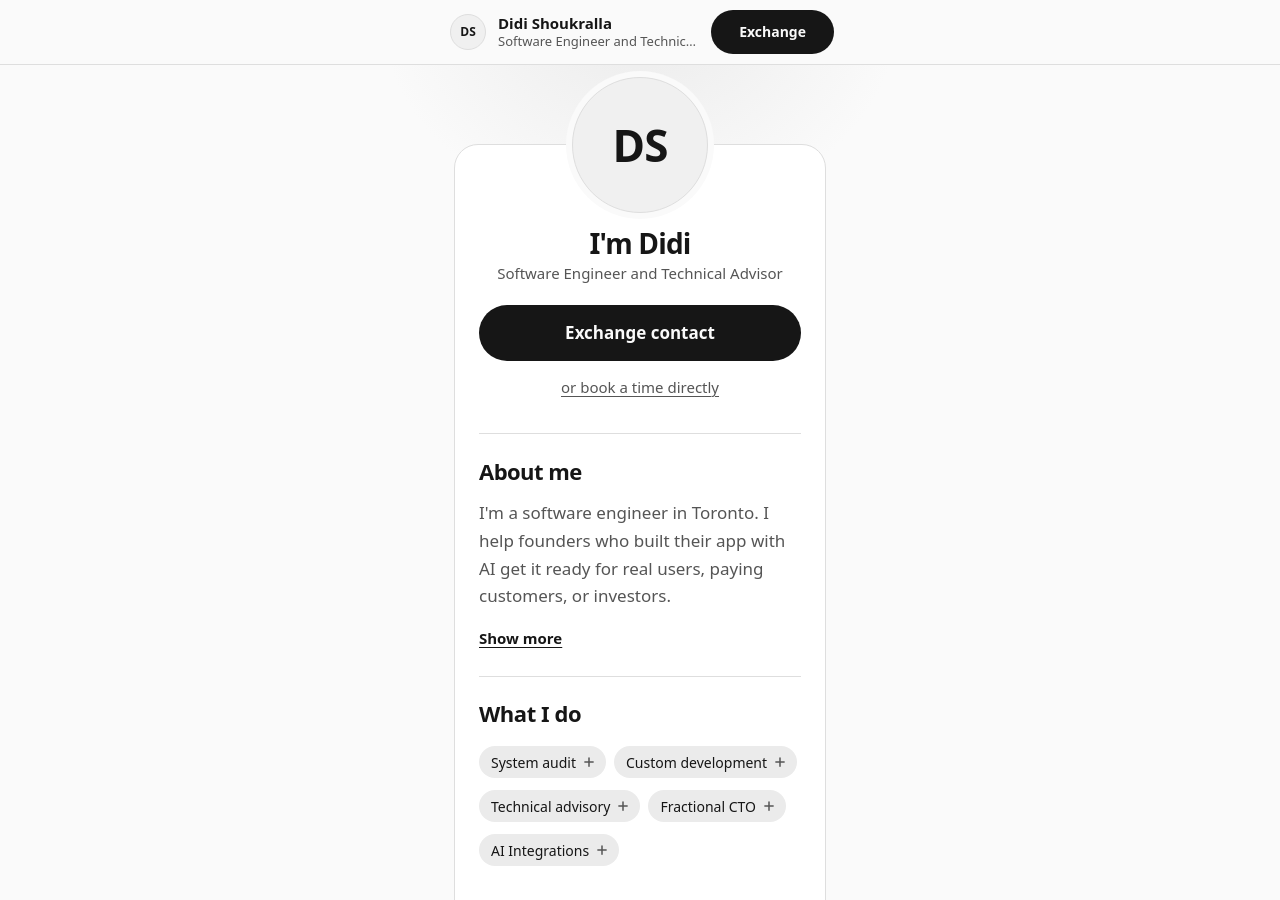
Scenario: HiPageClient (component) › restores focus to the sticky exchange opener without scrolling when the sheet closes
The width and height of the screenshot is (1280, 900).
Click the button "Exchange".
click(773, 32)  # box left=711, top=10, right=834, bottom=54
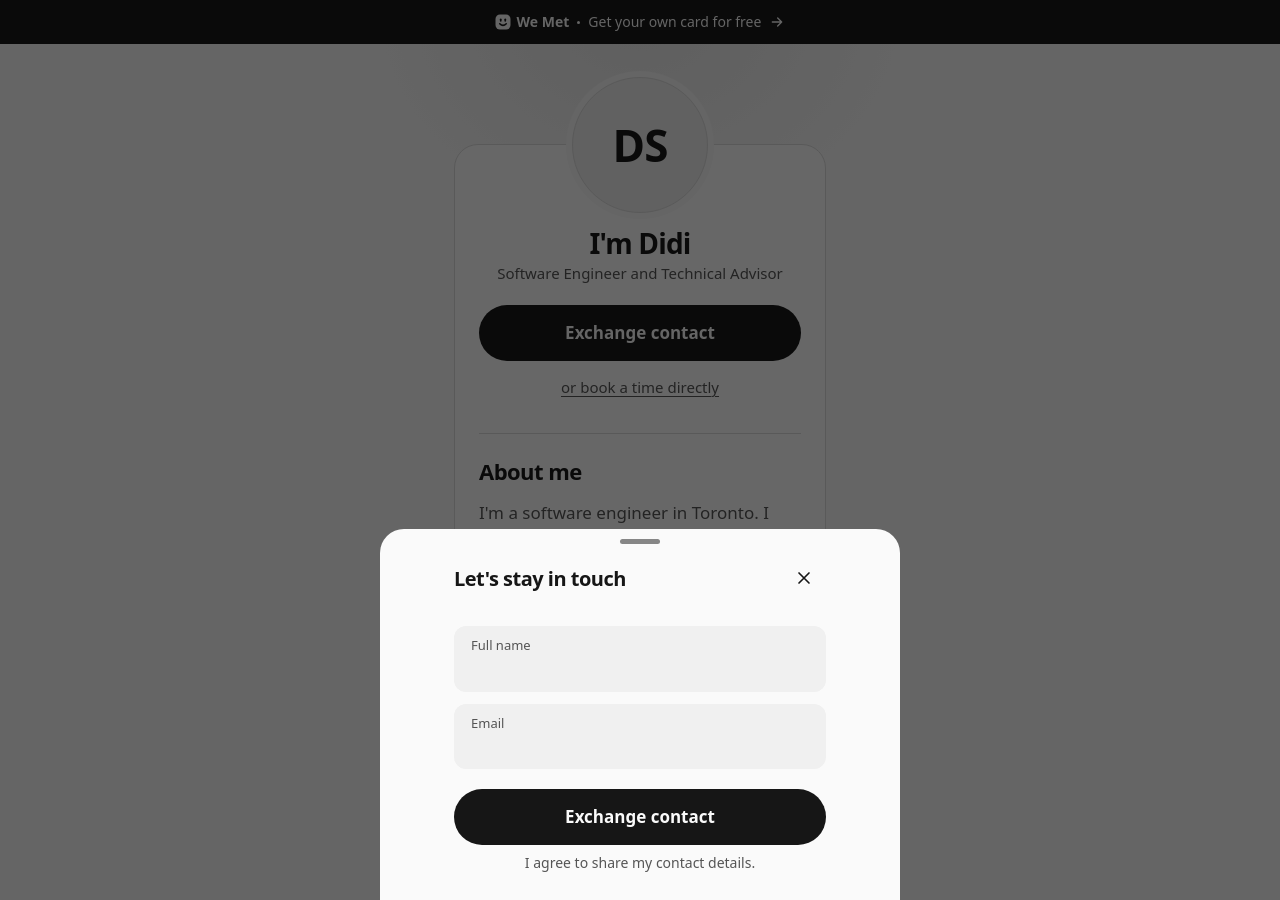
Check: the dialog is shown, box left=380, top=529, right=900, bottom=899
Press Escape
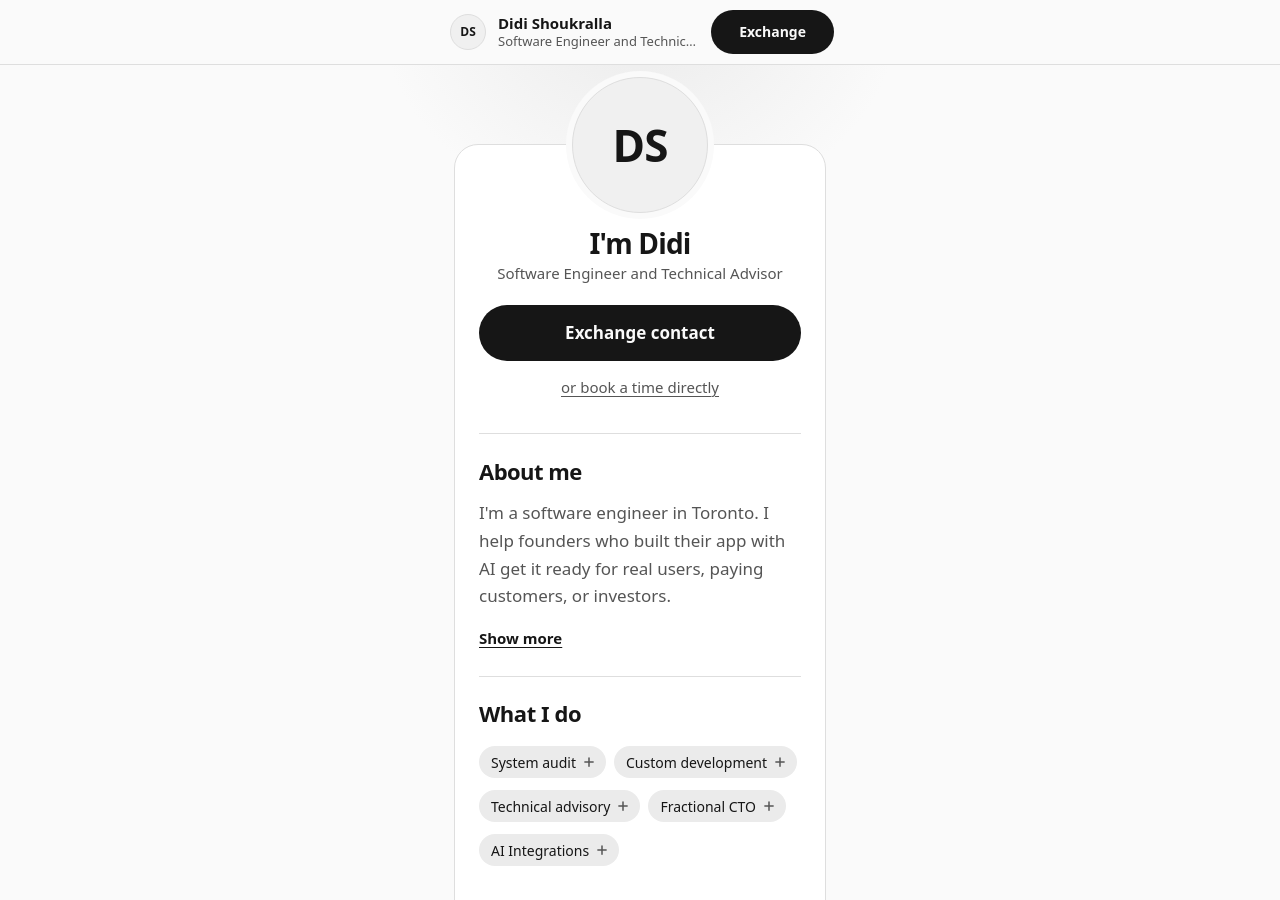
Check: the dialog is gone
